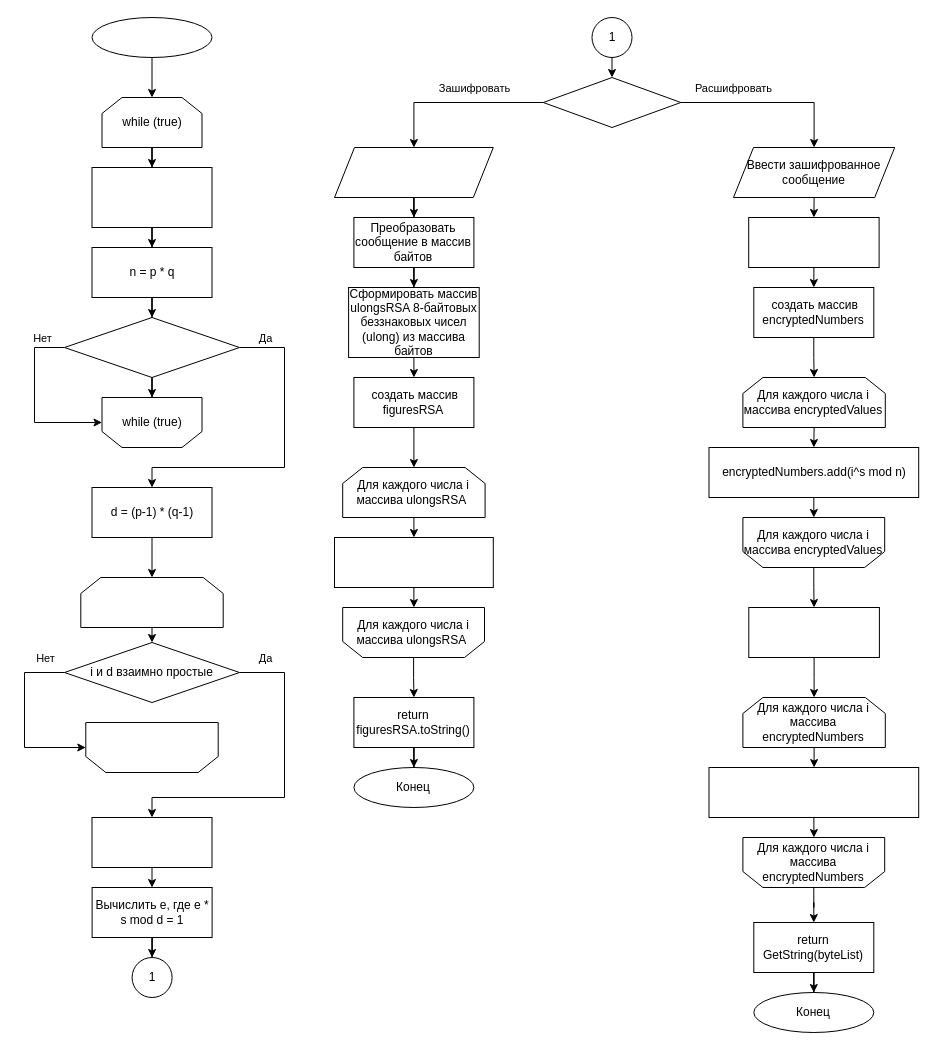
The diagram is 937 pixels wide and 1050 high, and some of its shapes have lost their labels. The centre of each missing label's shape, as x and y in pixels:
byteList.add(i.GetBytes): the point at 813,792
figuresRSA.add(i^e mod n): the point at 413,562
for (i = d - 1000; i > 1; i--): the point at 151,602
for (i = d -1000; i > 1; i--): the point at 151,747
s = i: the point at 151,842
Ввести сообщение: the point at 413,172
Количество цифр n = 28: the point at 152,347
Начало: the point at 151,37
Операция: the point at 611,102
Преобразовать сообщение в массив чисел encryptedValues: the point at 813,242
Сгенерировать числа p и q: the point at 151,197
Создать массив байтов byteList: the point at 813,632
